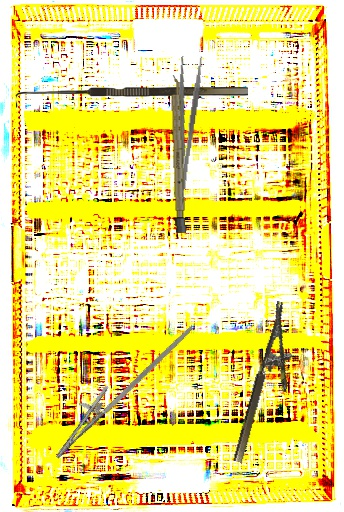Dressing Forceps: (164, 53, 205, 193)
Hook Surgical: (16, 87, 248, 108)
Needle Holder: (44, 302, 194, 474), (231, 300, 310, 470)
Scalpel Handle: (170, 74, 186, 234)
